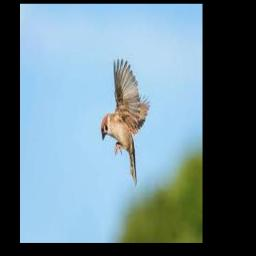Sparrow: (101, 59, 150, 186)
